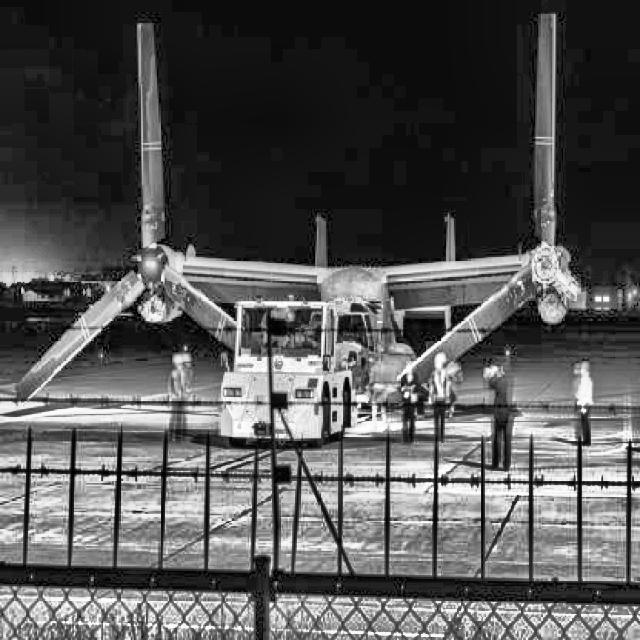V22: (14, 12, 581, 416)
